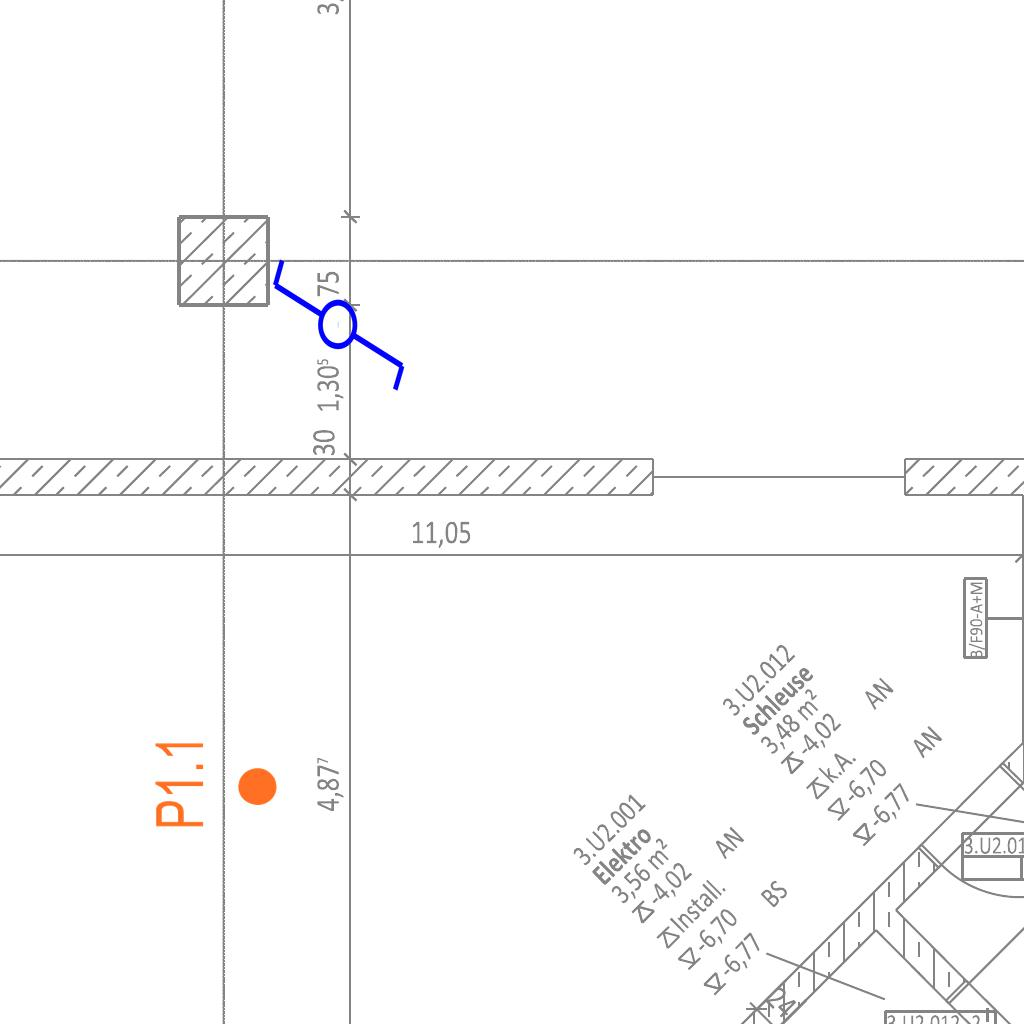Downlight_LED_Einbauleuchten_Flur: (152, 737, 280, 830)
Wechselschalter: (268, 238, 412, 395)
